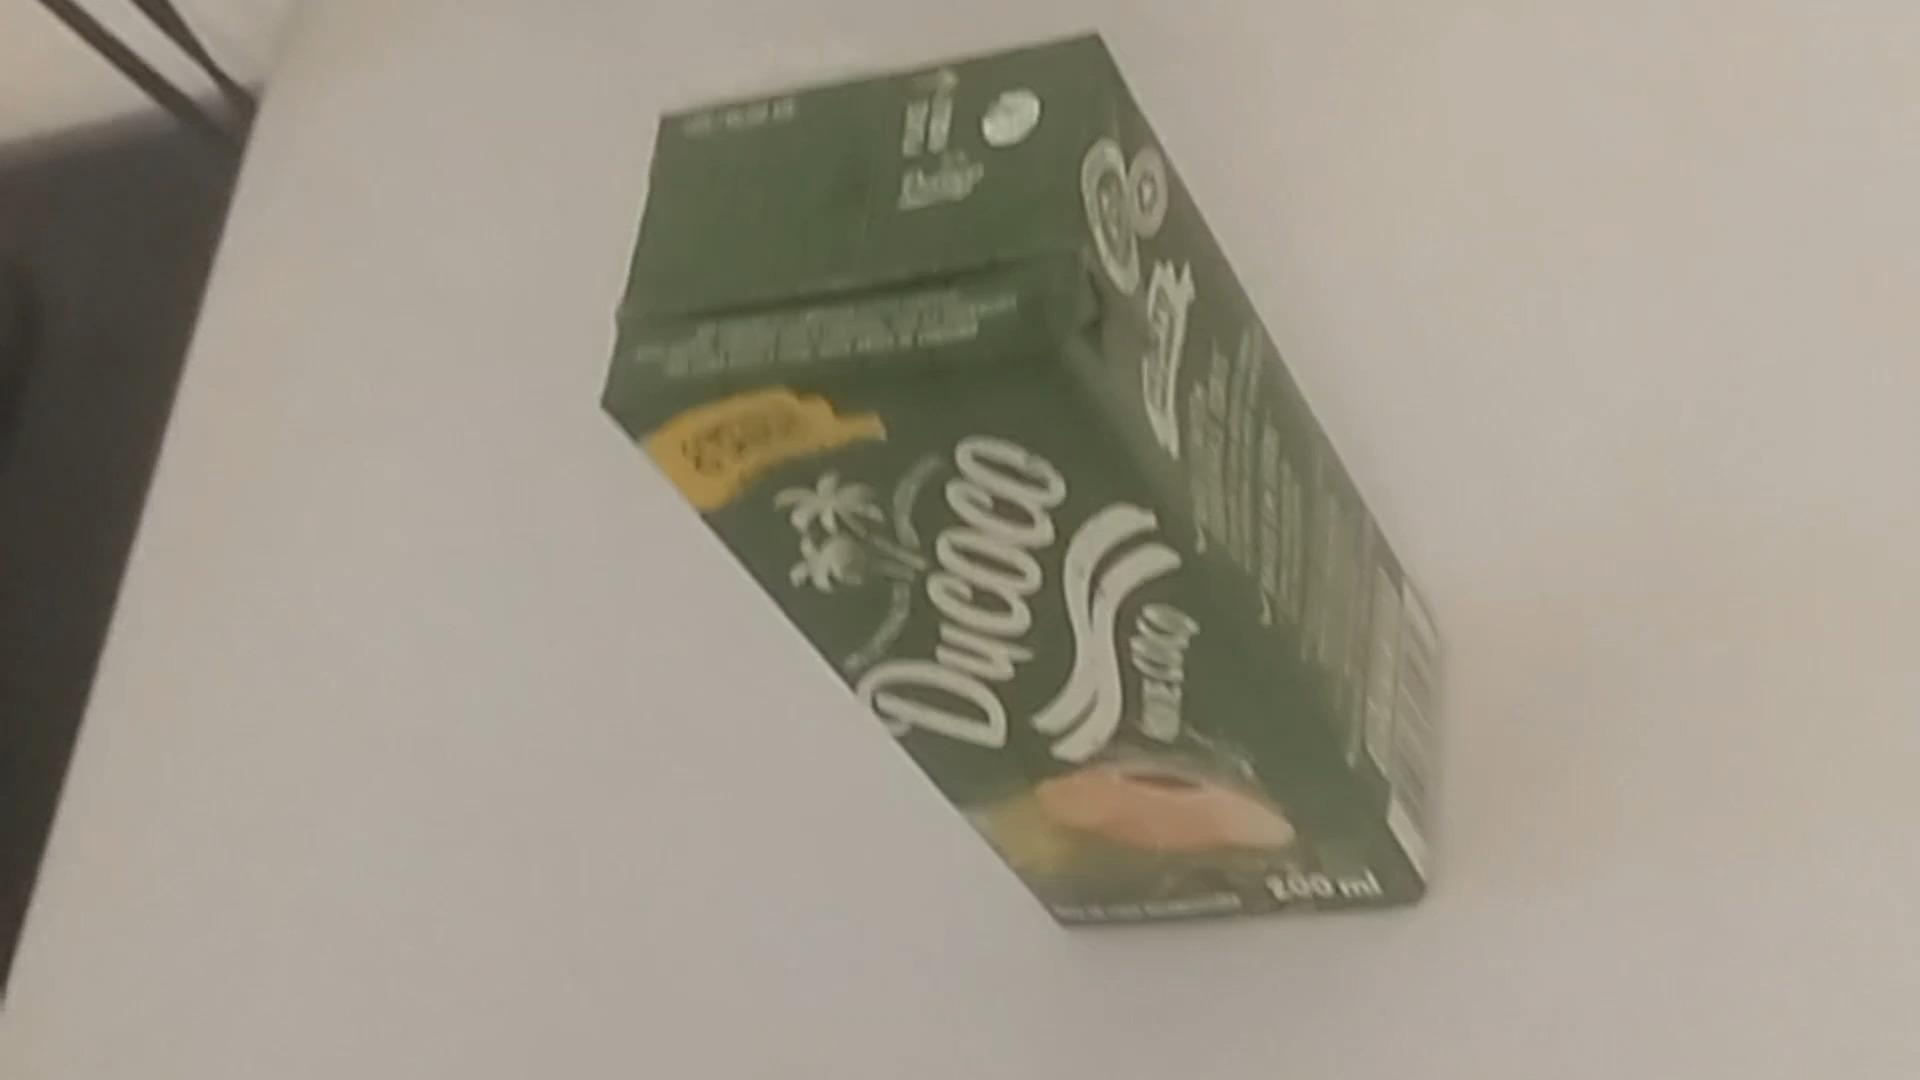coco: (597, 29, 1425, 939)
